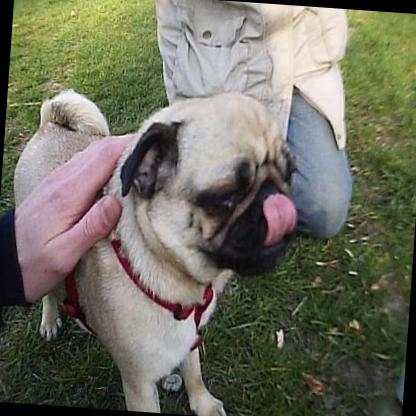pug: (0, 76, 303, 416)
